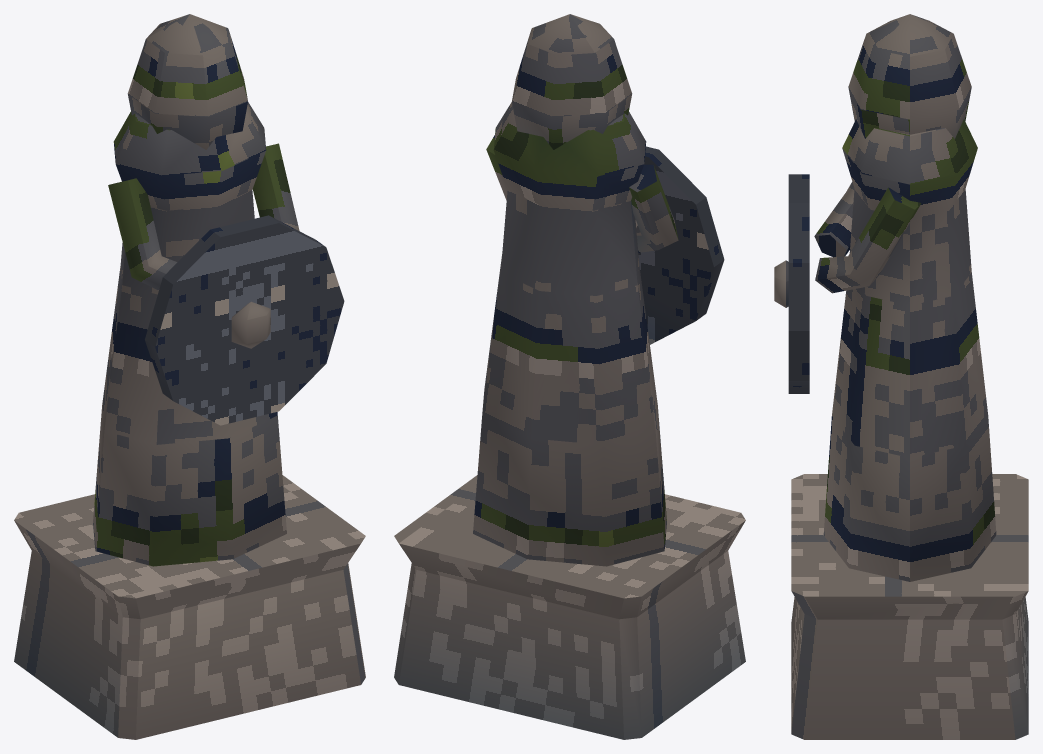
The model's file is dprop.statue__shield.glb.
The picture shows the model from 3 angles, left to right: view 1: azimuth 30°, elevation 25°; view 2: azimuth 150°, elevation 25°; view 3: azimuth 270°, elevation 25°; orthographic projection.
Visible parts, largest first — view 1: kit_figure, kit_shield, kit_arms; view 2: kit_figure, kit_shield, kit_arms; view 3: kit_figure, kit_arms, kit_shield.
Part boxes in pixels (box(x1,y1,x2,y2)): kit_figure: box(14, 14, 365, 739); kit_shield: box(145, 215, 344, 425); kit_arms: box(108, 143, 299, 290); kit_figure: box(394, 14, 745, 739); kit_shield: box(638, 146, 724, 344); kit_arms: box(486, 135, 678, 252); kit_figure: box(791, 14, 1028, 739); kit_arms: box(814, 182, 921, 293); kit_shield: box(774, 174, 809, 393).
Bounding box in the file's own units: 1.1 × 2.78 × 0.965.
Materials: 4 (4 with a texture image).
